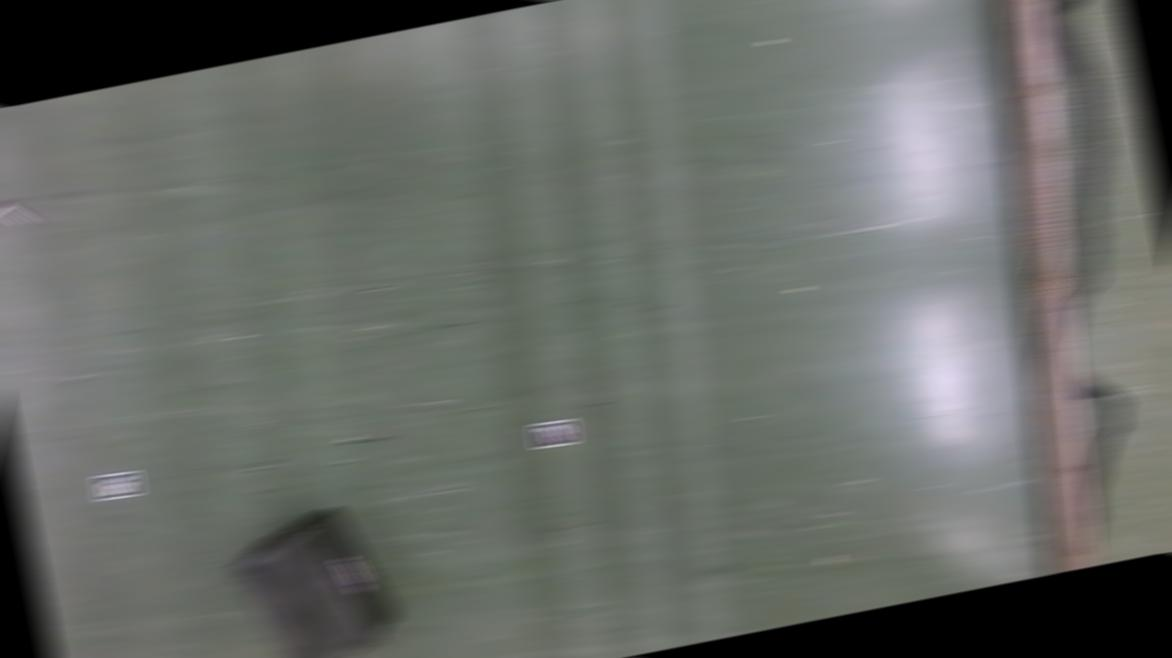probes: (0, 192, 39, 232)
rako: (223, 501, 407, 658)
